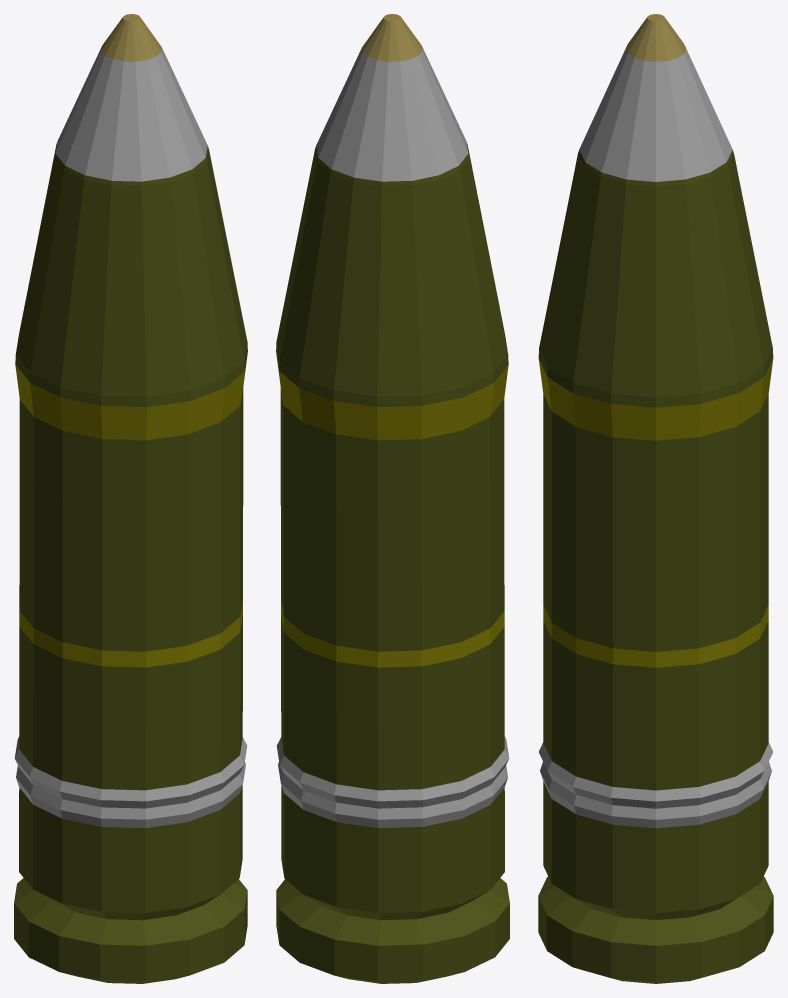
File: artillery shell.fbx
3 views of the same model, side by side, from view 1: azimuth 30°, elevation 25°; view 2: azimuth 150°, elevation 25°; view 3: azimuth 270°, elevation 25° (orthographic).
Visible parts, largest first — view 1: Cylinder; view 2: Cylinder; view 3: Cylinder.
Boxes of the visible parts, box(x1,y1,x2,y2) form: Cylinder: box(14, 14, 247, 983); Cylinder: box(276, 14, 509, 983); Cylinder: box(538, 14, 773, 983).
Bounding box in the file's own units: 209 × 909 × 209.
